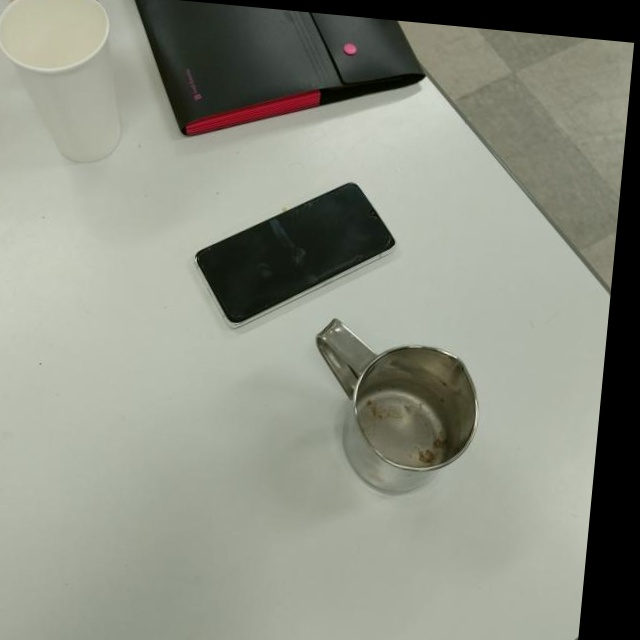cup: (303, 315, 490, 505)
phone: (188, 165, 404, 345)
